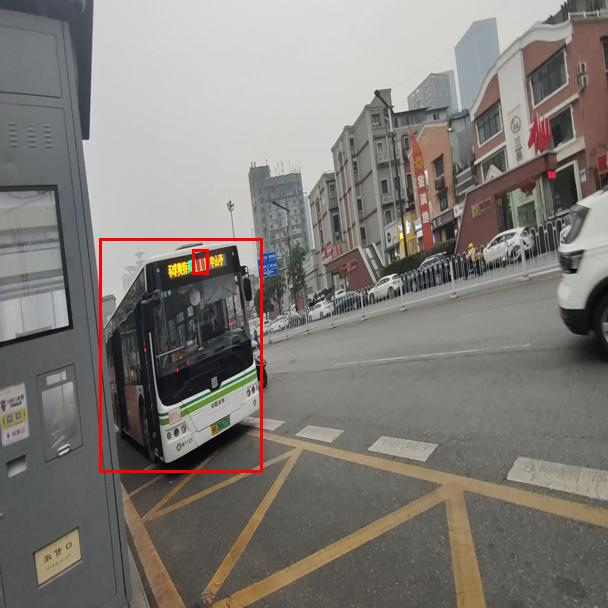bus: (99, 238, 262, 472)
screen: (192, 249, 208, 274)
